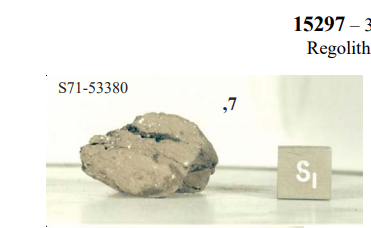Breccia: (75, 107, 226, 207)
